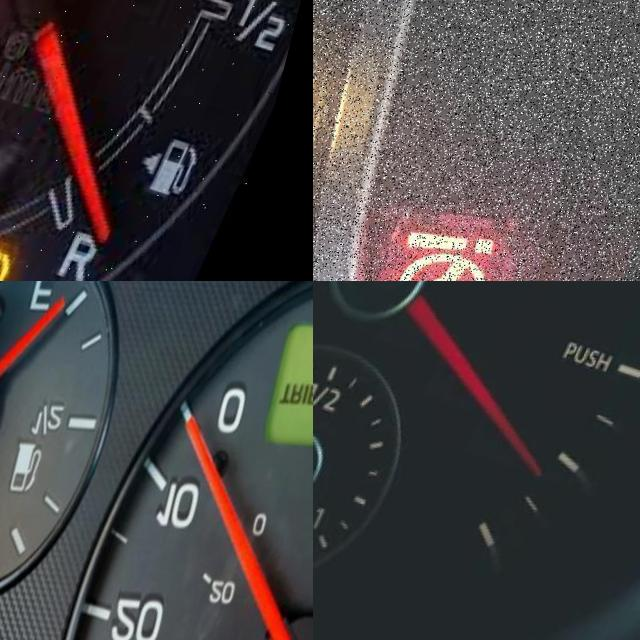Electronic Power Steering: (391, 180, 562, 281)
